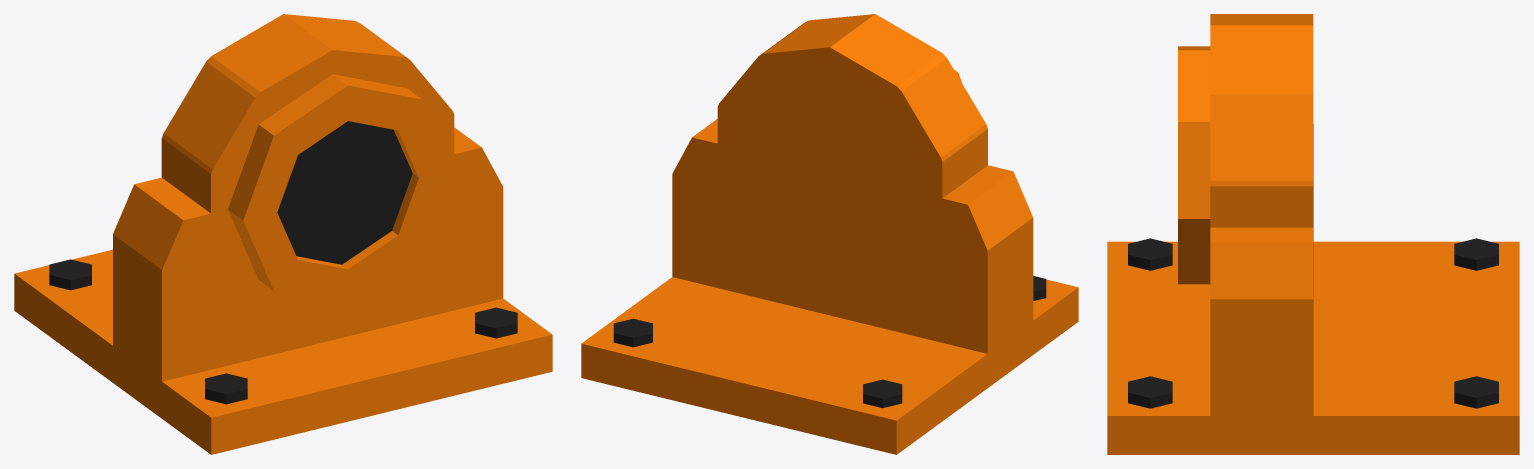
The model's file is Prop_Industrial_Robotic_Arm_Base_01.FBX.
The picture shows the model from 3 angles, left to right: view 1: azimuth 30°, elevation 25°; view 2: azimuth 150°, elevation 25°; view 3: azimuth 270°, elevation 25°; orthographic projection. The views are drawn at different scales.
Parts seen in each view (by area): view 1: Prop_Industrial_Robotic_Arm_Base_01; view 2: Prop_Industrial_Robotic_Arm_Base_01; view 3: Prop_Industrial_Robotic_Arm_Base_01.
Part boxes in pixels (x1,y1,x2,y2): Prop_Industrial_Robotic_Arm_Base_01: (14, 14, 552, 454); Prop_Industrial_Robotic_Arm_Base_01: (581, 14, 1078, 454); Prop_Industrial_Robotic_Arm_Base_01: (1107, 14, 1519, 454).
Bounding box in the file's own units: 1524 × 1397 × 1524.
